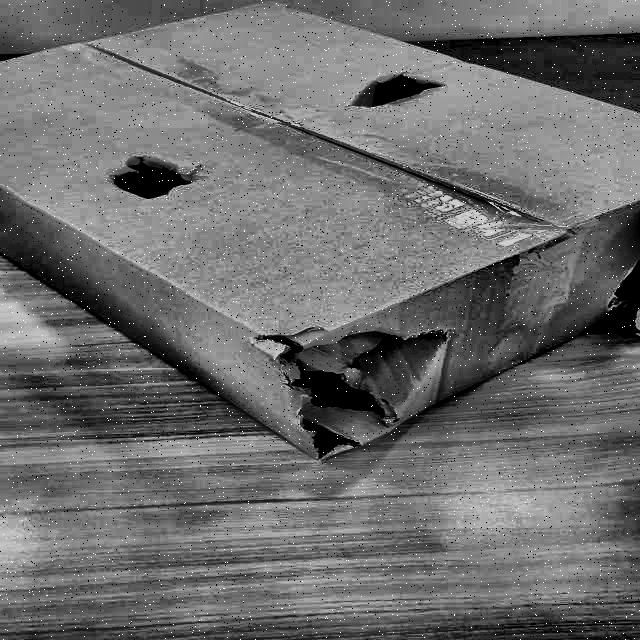box: (1, 0, 640, 475)
hole: (246, 316, 460, 464), (103, 154, 210, 204), (342, 68, 443, 111)
